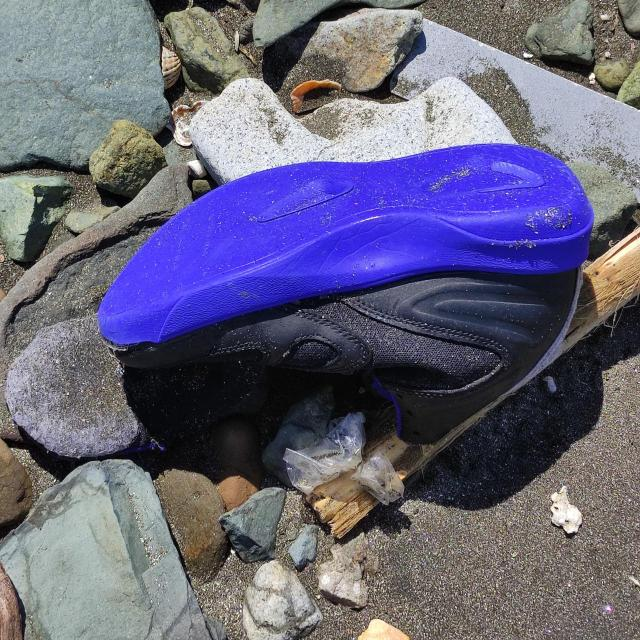rubber_waste: (101, 146, 596, 447)
